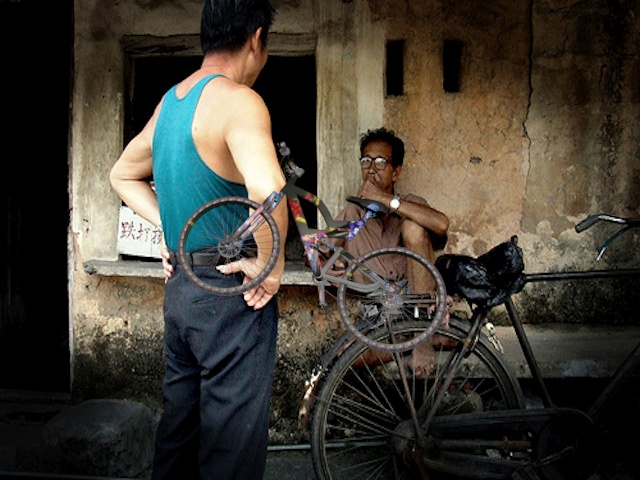bike: (176, 137, 449, 360)
